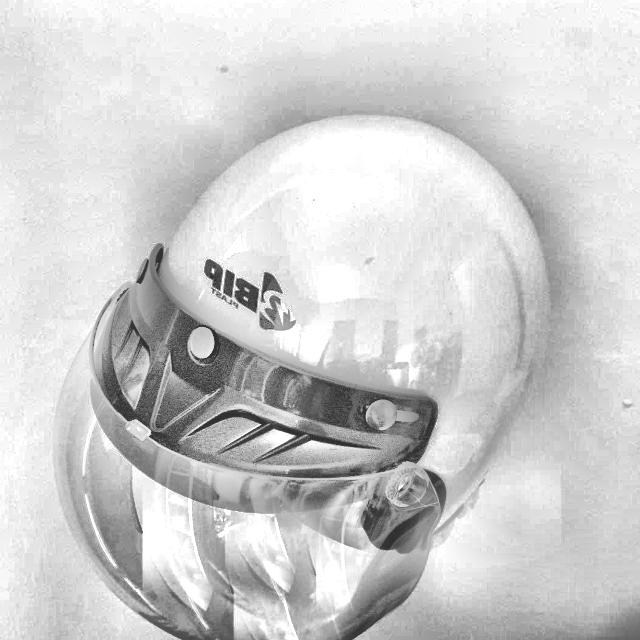Helmet: (67, 101, 560, 640)
